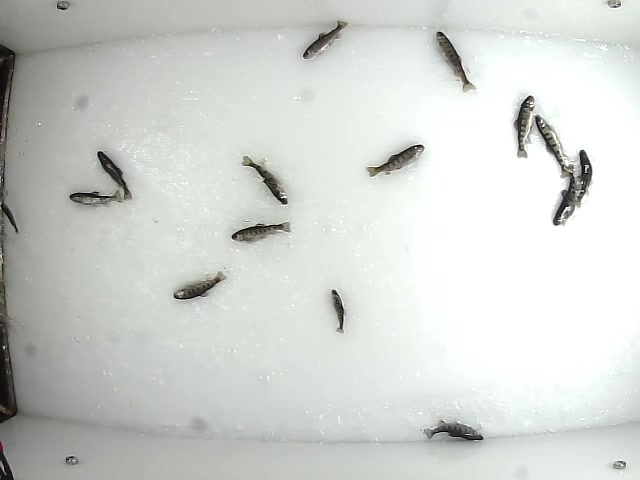fish: (434, 28, 477, 94), (534, 114, 574, 180), (238, 155, 289, 206), (552, 157, 584, 228), (364, 144, 427, 179), (95, 147, 133, 203), (299, 17, 348, 60), (170, 270, 227, 303), (511, 90, 537, 160), (227, 218, 294, 245), (421, 416, 487, 442), (66, 186, 127, 207), (573, 146, 590, 212), (329, 289, 351, 335)
